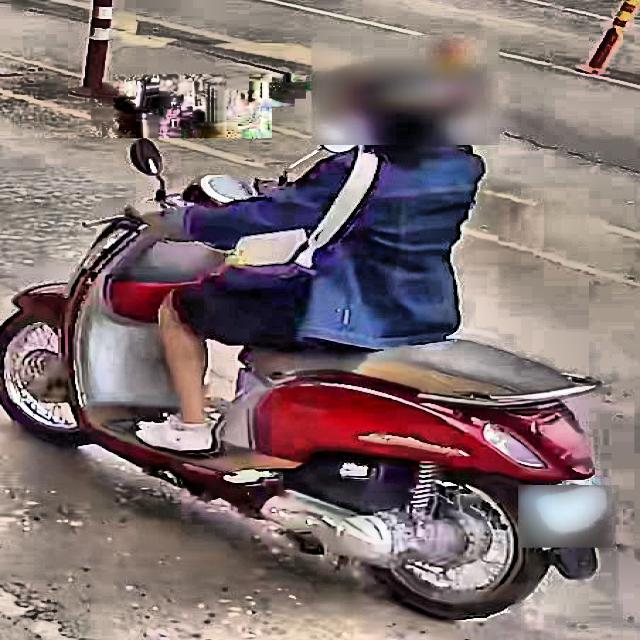motorcycle: (7, 129, 640, 640)
